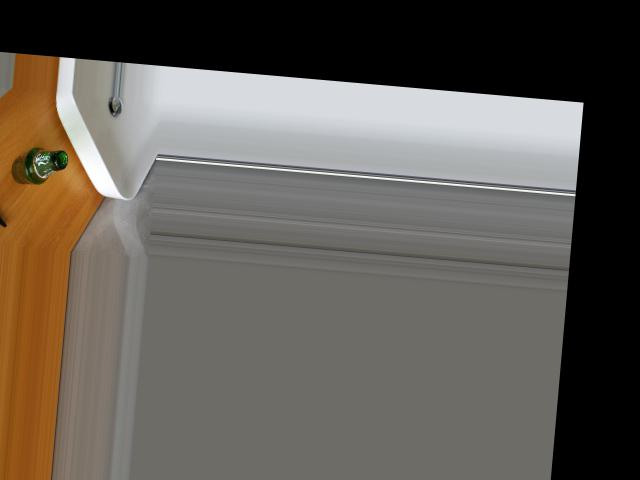beer: (9, 145, 68, 186)
